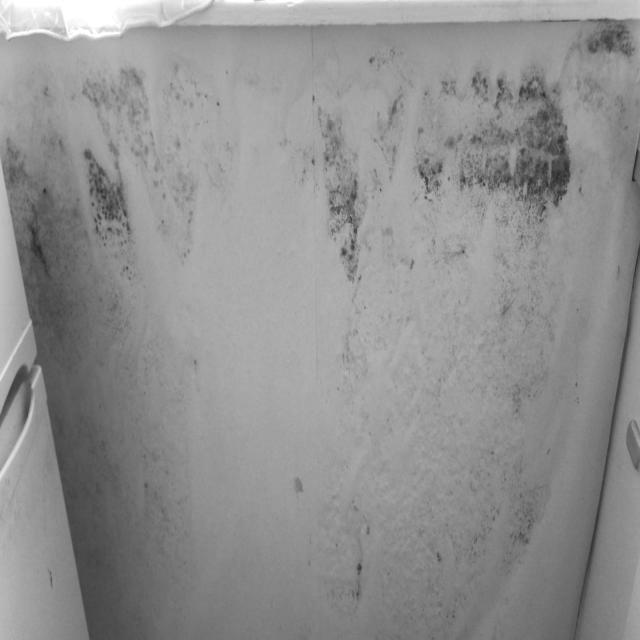stain marks: (314, 41, 558, 634), (51, 376, 202, 632), (81, 50, 247, 261), (26, 264, 186, 378), (2, 68, 80, 262), (560, 111, 585, 457), (558, 20, 640, 117), (280, 78, 320, 211), (285, 468, 316, 504), (186, 348, 209, 371)
